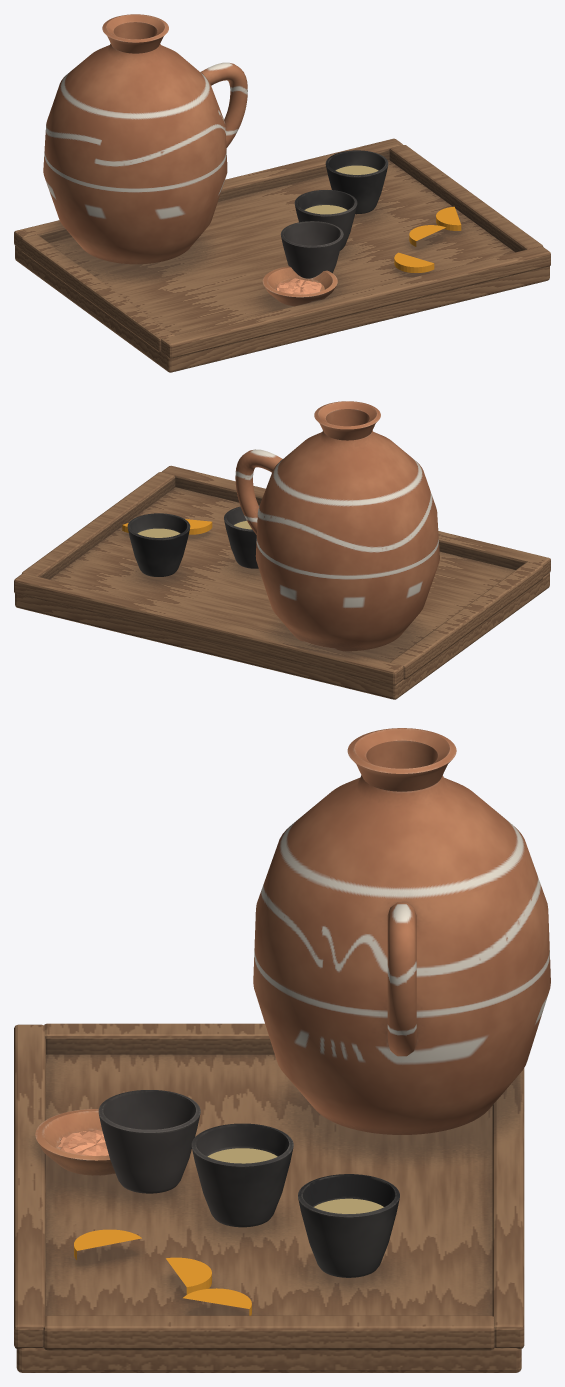
The model's file is w6_mezcal_jug_set.glb.
3 renders of one model, top to bottom at view 1: azimuth 30°, elevation 25°; view 2: azimuth 150°, elevation 25°; view 3: azimuth 270°, elevation 25°, orthographic. The views are drawn at different scales.
Parts seen in each view (by area): view 1: w6_mezcal_jug_set; view 2: w6_mezcal_jug_set; view 3: w6_mezcal_jug_set.
Part boxes in pixels (left/top/right/bottom): w6_mezcal_jug_set: left=14, top=14, right=550, bottom=372; w6_mezcal_jug_set: left=14, top=401, right=550, bottom=699; w6_mezcal_jug_set: left=14, top=728, right=550, bottom=1372.
Bounding box in the file's own units: 0.544 × 0.324 × 0.404.
Materials: 1 (1 with a texture image).
